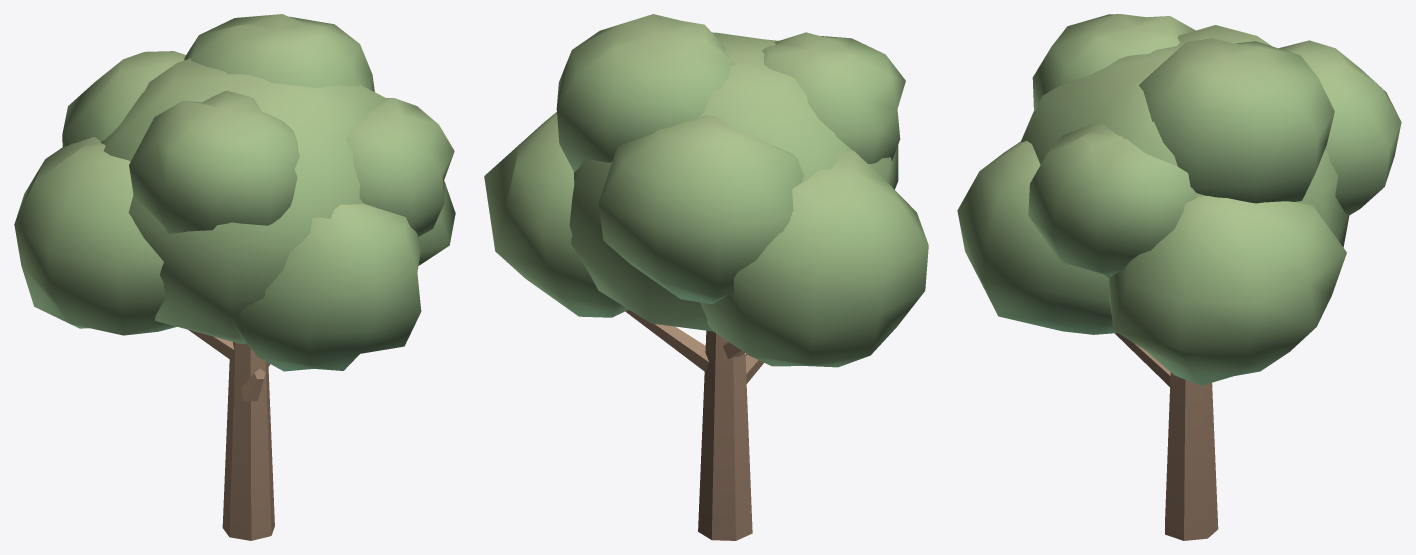
The model's file is tree_round.glb.
The picture shows the model from 3 angles, left to right: view 1: azimuth 30°, elevation 25°; view 2: azimuth 150°, elevation 25°; view 3: azimuth 270°, elevation 25°; orthographic projection. The views are drawn at different scales.
Visible parts, largest first — view 1: TreeRound; view 2: TreeRound; view 3: TreeRound.
Boxes of the visible parts, box(x1,y1,x2,y2) form: TreeRound: box(14, 14, 455, 540); TreeRound: box(484, 14, 928, 540); TreeRound: box(957, 14, 1401, 540).
Bounding box in the file's own units: 5.13 × 5.88 × 4.74.
